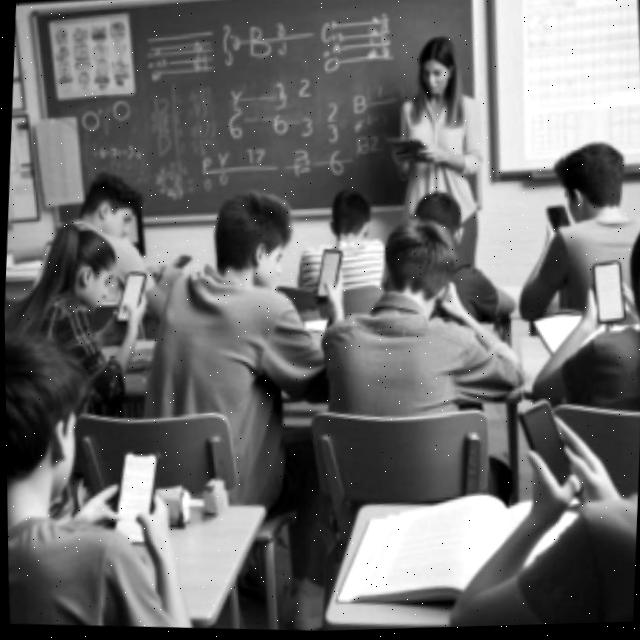phone: (511, 397, 586, 506), (103, 446, 168, 549), (586, 259, 627, 327), (110, 270, 149, 324), (309, 246, 346, 301), (150, 252, 193, 285), (544, 204, 573, 239), (171, 253, 190, 268)
